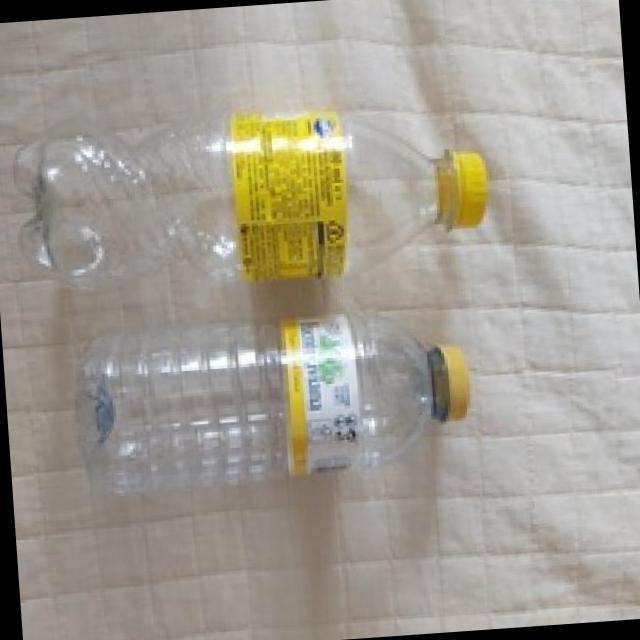good: (9, 80, 500, 308), (60, 292, 486, 499)
